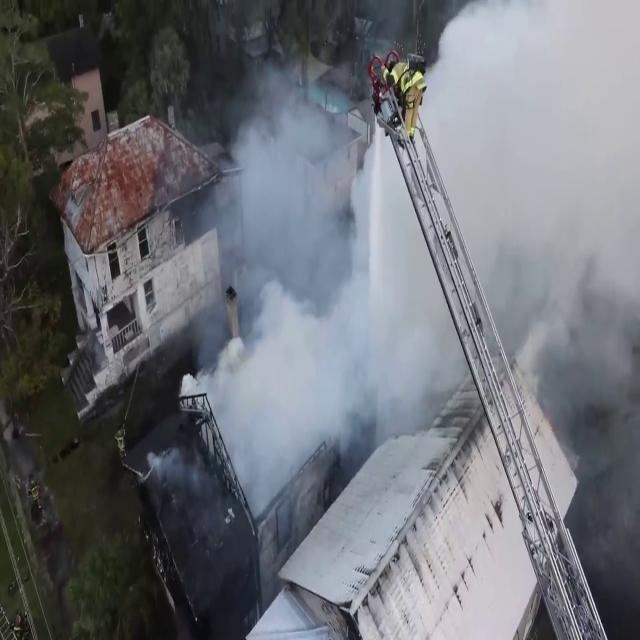Smoke: (180, 302, 393, 553)
